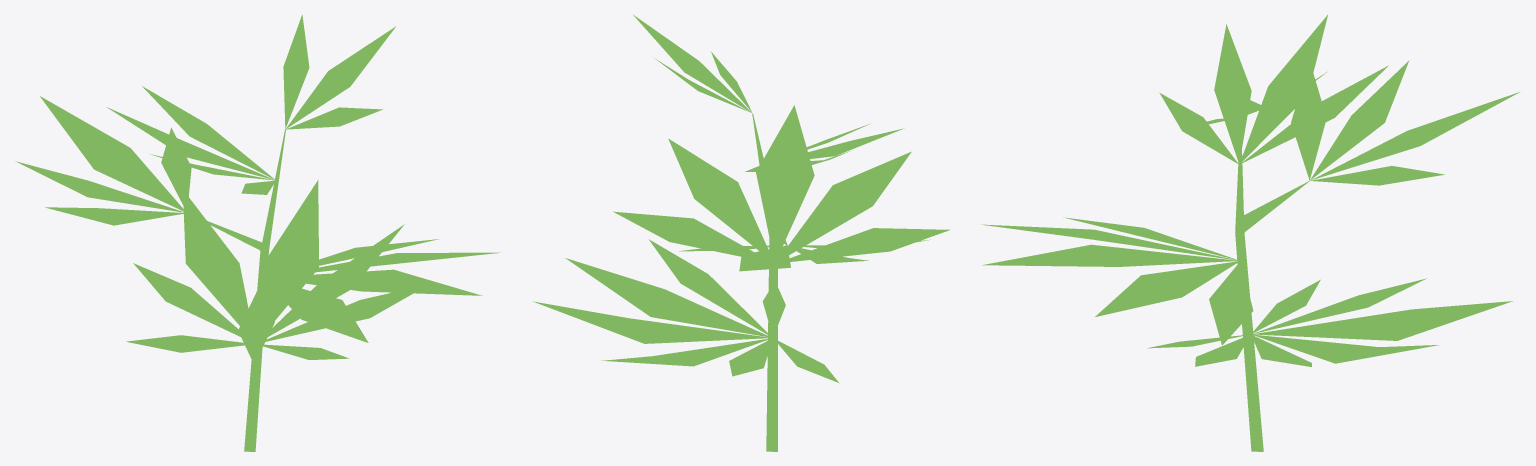
Rendered from Plant_i_OneS_06.fbx.
3 views of the same model, side by side, from view 1: azimuth 30°, elevation 25°; view 2: azimuth 150°, elevation 25°; view 3: azimuth 270°, elevation 25° (orthographic). The views are drawn at different scales.
Parts seen in each view (by area): view 1: Plant_i_OneS_06; view 2: Plant_i_OneS_06; view 3: Plant_i_OneS_06.
Boxes of the visible parts, x1,y1,x2,y2 form: Plant_i_OneS_06: [15, 15, 500, 451]; Plant_i_OneS_06: [533, 15, 949, 451]; Plant_i_OneS_06: [982, 15, 1519, 451].
Size of the model in its own units: 0.6992 by 0.7244 by 0.8357.
